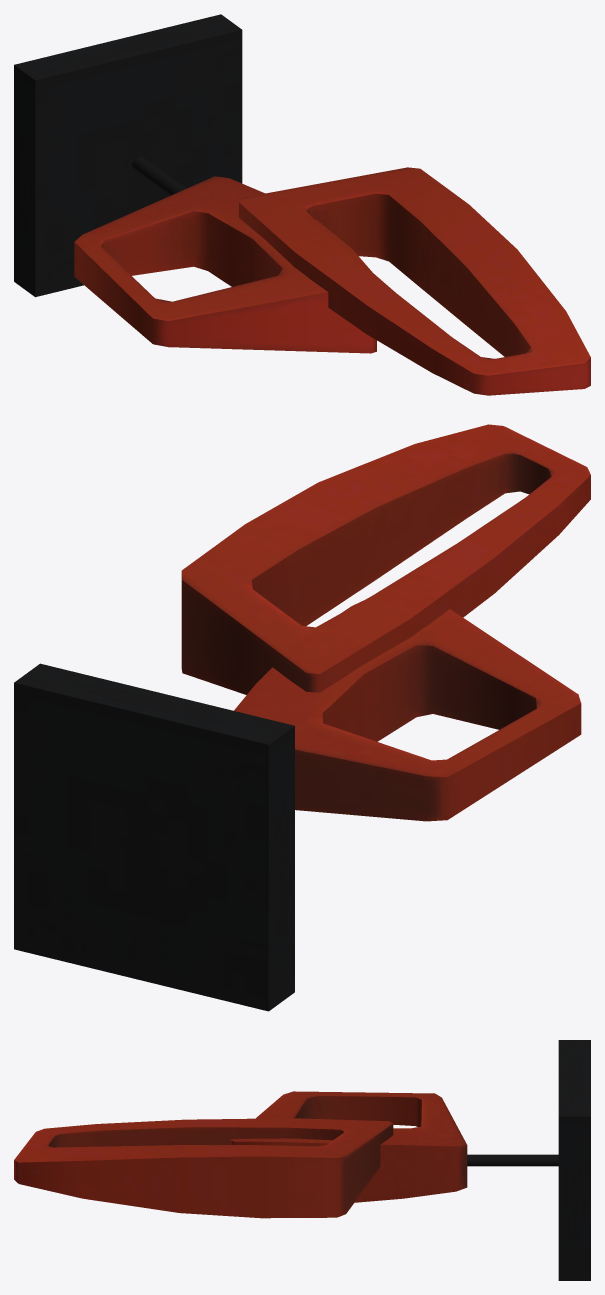
Rendered from nt_2020_sculpture_01_LOD0.obj.
The picture shows the model from 3 angles, top to bottom: view 1: azimuth 30°, elevation 25°; view 2: azimuth 150°, elevation 25°; view 3: azimuth 270°, elevation 25°; orthographic projection. The views are drawn at different scales.
Parts seen in each view (by area): view 1: mtl_nt_2020_sculpture_01; view 2: mtl_nt_2020_sculpture_01; view 3: mtl_nt_2020_sculpture_01.
Boxes of the visible parts, left/top/right/bottom form: mtl_nt_2020_sculpture_01: left=14, top=14, right=590, bottom=395; mtl_nt_2020_sculpture_01: left=14, top=424, right=590, bottom=1011; mtl_nt_2020_sculpture_01: left=14, top=1040, right=590, bottom=1280.
Size of the model in its own units: 34.29 by 23.99 by 76.4.
